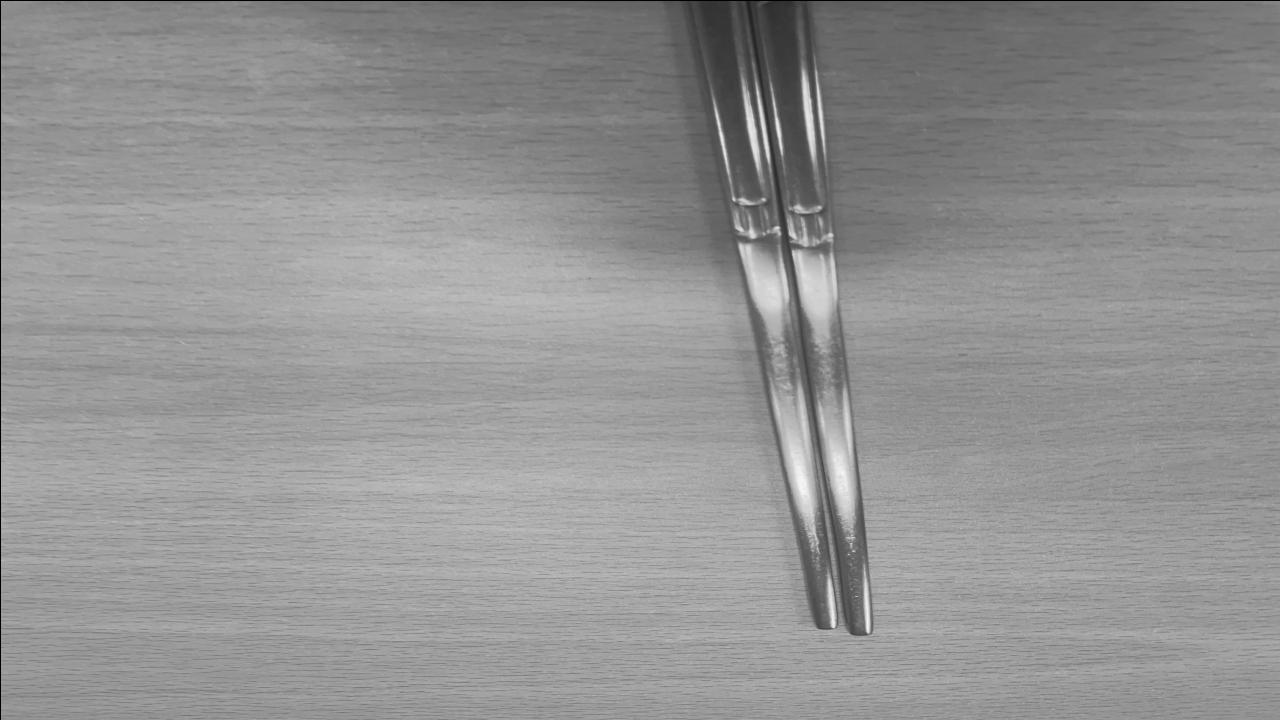chopstick: (683, 2, 865, 634)
